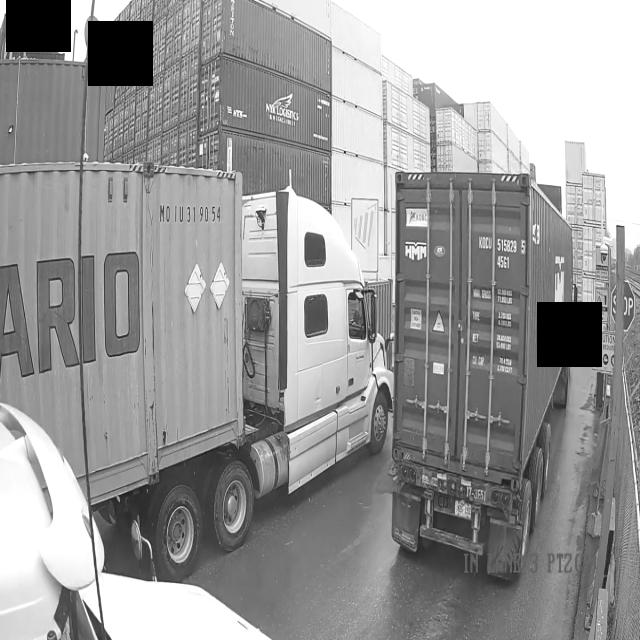container_company_logo: (406, 241, 430, 266)
container_number: (478, 232, 529, 278)
container_side_no: (156, 206, 227, 225)
license_plate: (453, 497, 477, 522)
truck_with_container: (0, 162, 393, 581), (391, 174, 572, 581)
